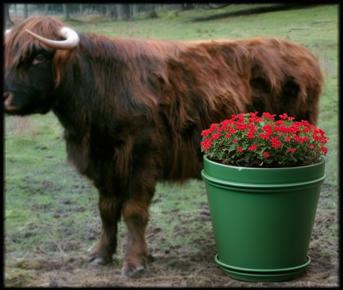cow: (6, 16, 323, 278)
pottedplant: (200, 110, 329, 281)
